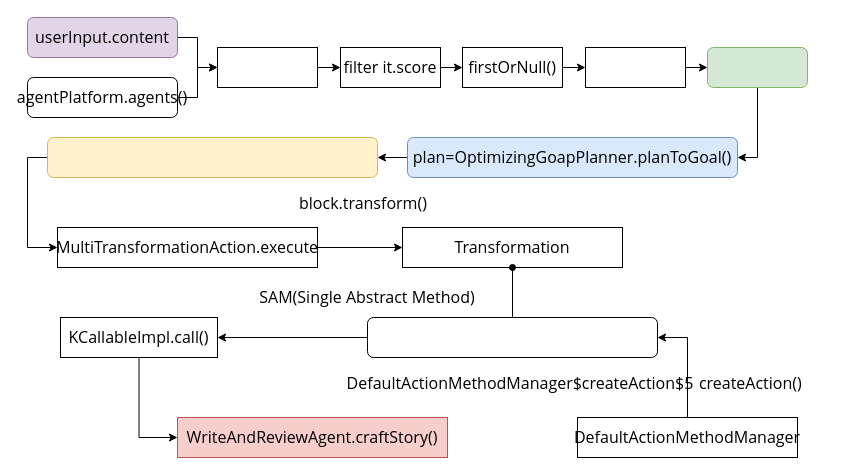
The diagram is 844 pixels wide and 475 high, and some of its shapes have lost their labels. The shapes that lost their labels are listed below. From the top down, each one's centre as x and y in pixels, then its label:
(267,67): ranker
(635,67): match
(757,67): agent
(212,157): action = plan.actions.first()
(512,337): context -> invokeActionMethod(...)
